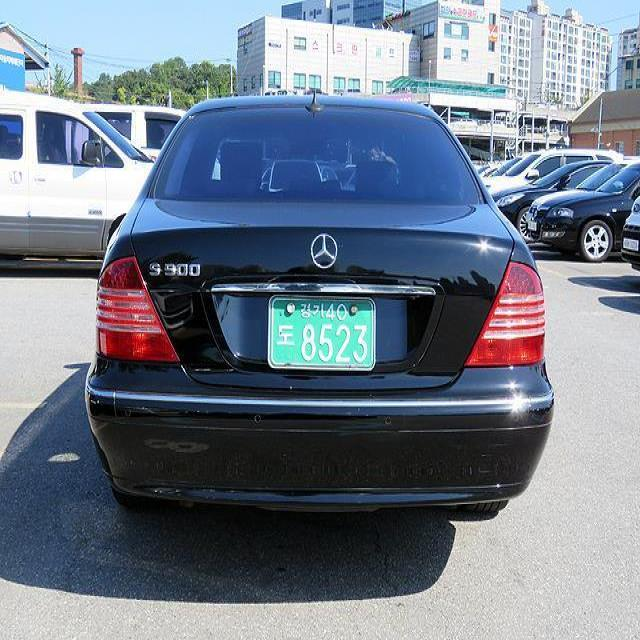car: (78, 83, 561, 540)
illegal_plate: (263, 285, 382, 382)
